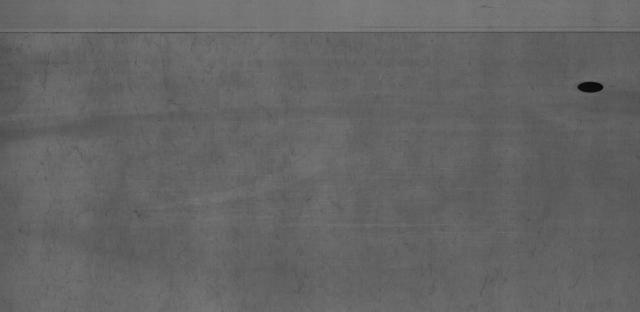punching_hole: (570, 78, 609, 96)
welding_line: (1, 24, 640, 40)
